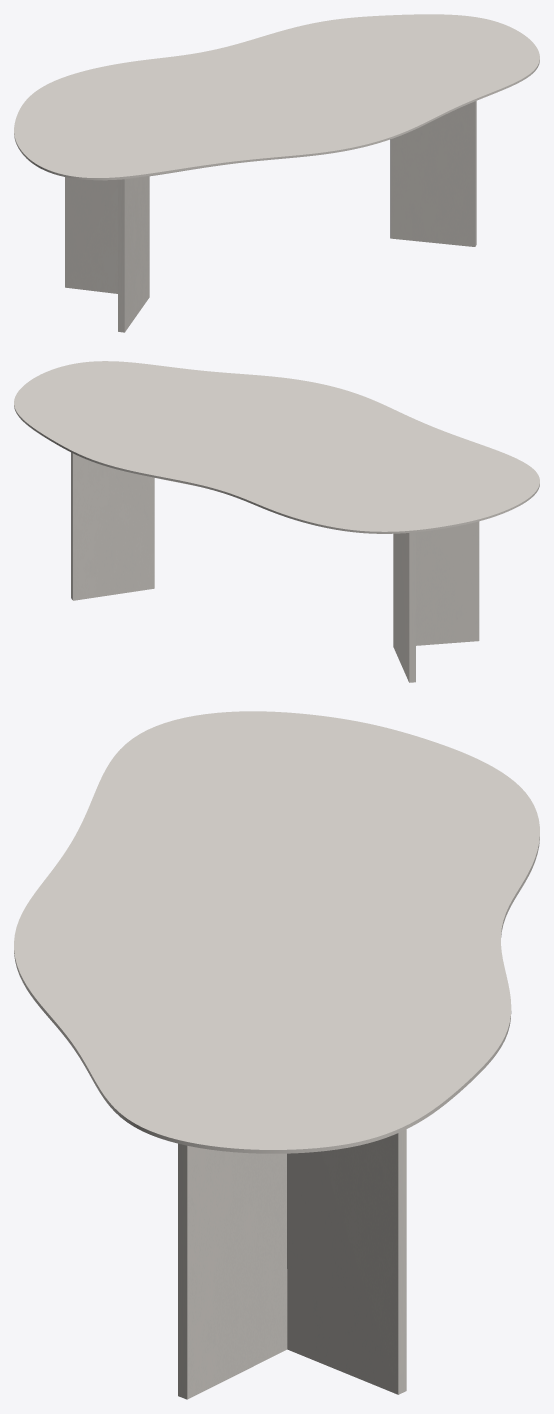
Rendered from pearlwhite_toplast_facet_valleyv.glb.
3 views of the same model, one above another, from view 1: azimuth 30°, elevation 25°; view 2: azimuth 150°, elevation 25°; view 3: azimuth 270°, elevation 25° (orthographic). The views are drawn at different scales.
Visible parts, largest first — view 1: facet_toplast, valleyv; view 2: facet_toplast, valleyv; view 3: facet_toplast, valleyv.
Part boxes in pixels (x1,y1,x2,y2): facet_toplast: [14, 14, 539, 180]; valleyv: [65, 101, 476, 332]; facet_toplast: [14, 361, 539, 533]; valleyv: [71, 452, 479, 682]; facet_toplast: [14, 711, 539, 1153]; valleyv: [178, 1129, 406, 1399].
Bounding box in the file's own units: 7.5 × 2.5 × 3.8.
Materials: 1 (1 with a texture image).
